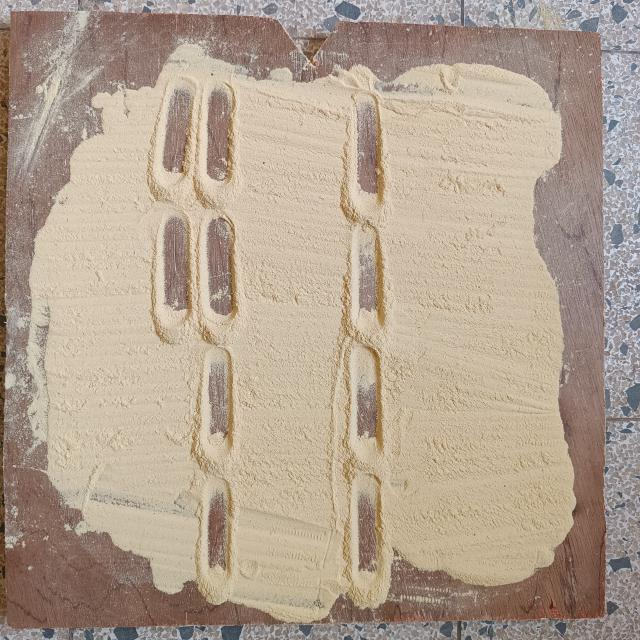double: (142, 213, 248, 346), (149, 80, 240, 209)
single: (342, 472, 395, 616), (190, 338, 244, 479), (340, 85, 393, 222), (336, 338, 387, 474), (190, 472, 239, 610), (339, 222, 392, 342)
